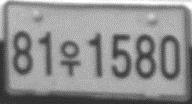0: (159, 34, 181, 80)
1: (36, 29, 54, 77), (88, 32, 104, 78)
5: (109, 32, 132, 79)
8: (11, 29, 34, 75), (135, 32, 157, 79)
우: (57, 39, 82, 78)
